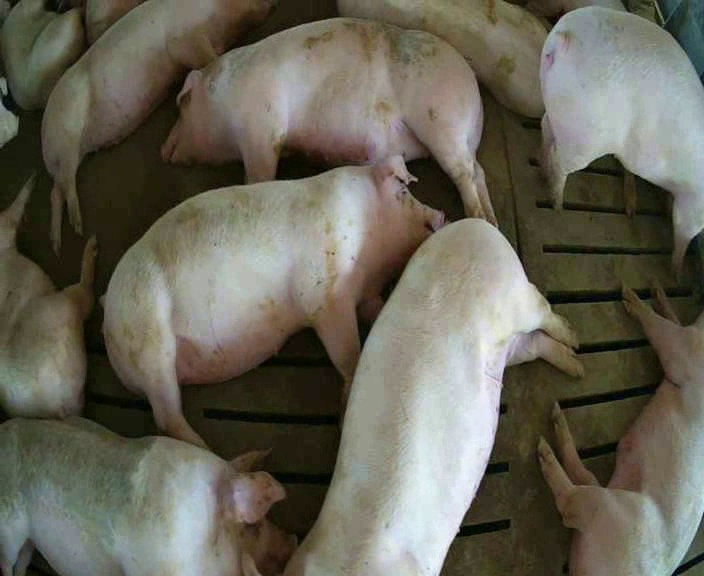pig: (104, 157, 443, 445), (162, 18, 495, 220), (41, 3, 269, 250), (538, 287, 703, 573), (338, 2, 546, 117), (0, 176, 95, 417), (0, 2, 84, 109)
